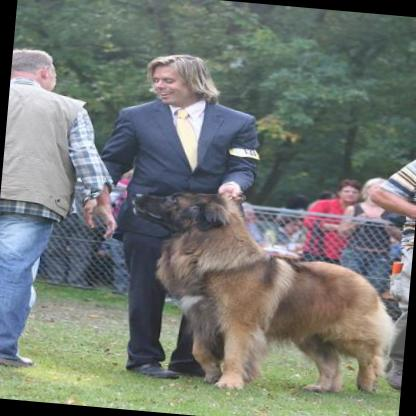Leonberg: (116, 186, 404, 402)
